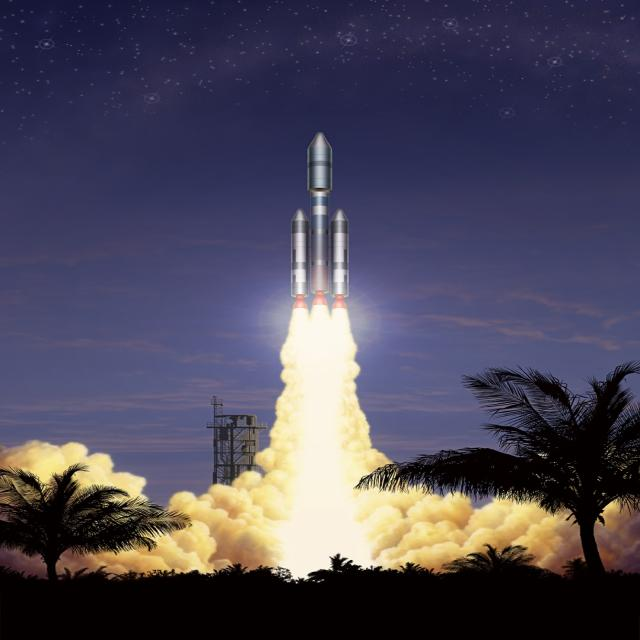medium_debris: (272, 295, 394, 571)
rocket: (271, 119, 370, 321)
